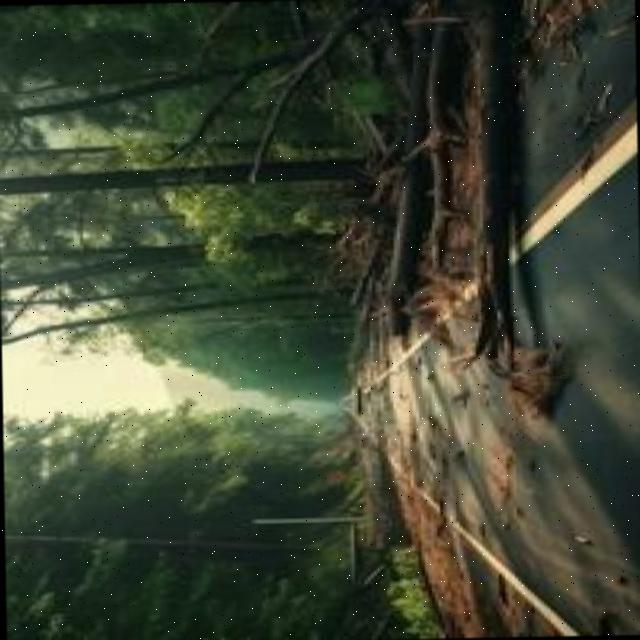road collapse: (35, 0, 600, 640)
